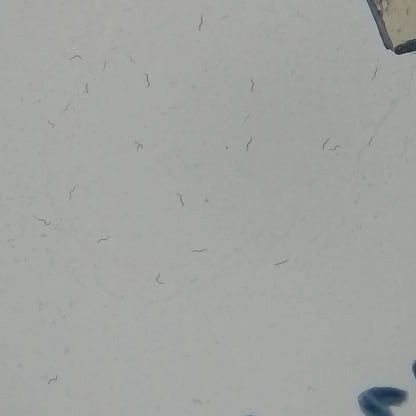worm: (65, 183, 83, 203), (33, 215, 54, 232), (271, 254, 292, 270), (43, 371, 60, 389), (93, 232, 112, 248), (243, 131, 255, 156), (190, 242, 209, 256), (177, 185, 187, 211), (190, 393, 206, 409), (141, 69, 151, 93), (153, 271, 166, 289), (61, 95, 73, 113), (196, 12, 206, 33), (69, 49, 83, 64), (238, 111, 253, 125), (366, 132, 377, 151), (368, 65, 381, 81), (247, 73, 256, 95), (132, 139, 144, 155), (317, 137, 330, 151), (127, 50, 137, 67), (329, 139, 337, 160), (81, 80, 93, 94), (47, 116, 61, 128)
